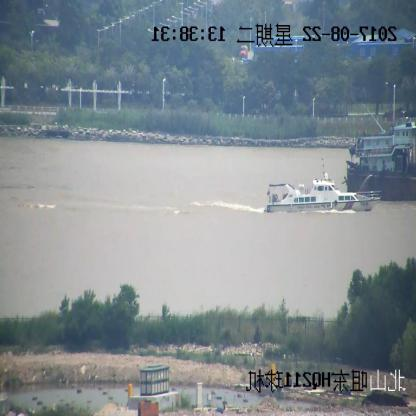Bulk Carrier: (344, 112, 416, 200)
